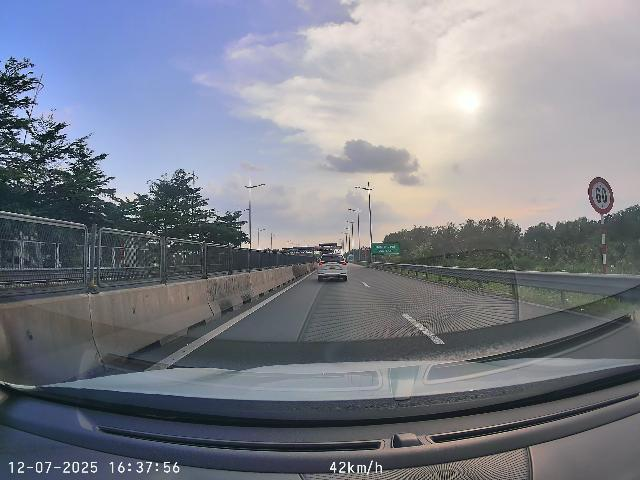127-toc-do-toi-da-60: (588, 177, 614, 215)
